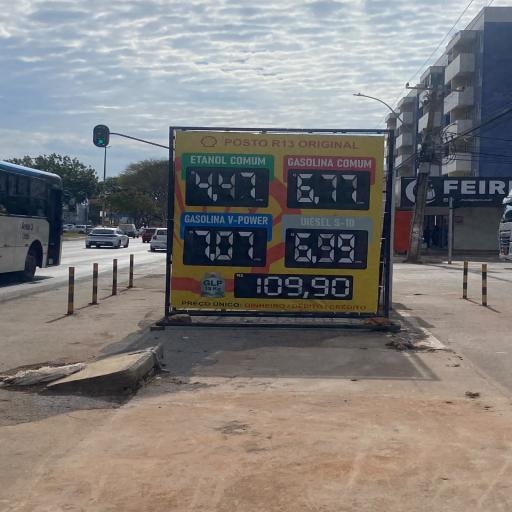GASOLINA AD: (182, 213, 272, 229)
S10: (296, 212, 360, 229)
placa: (176, 146, 385, 275)
preco: (190, 228, 272, 268), (294, 231, 362, 266)
